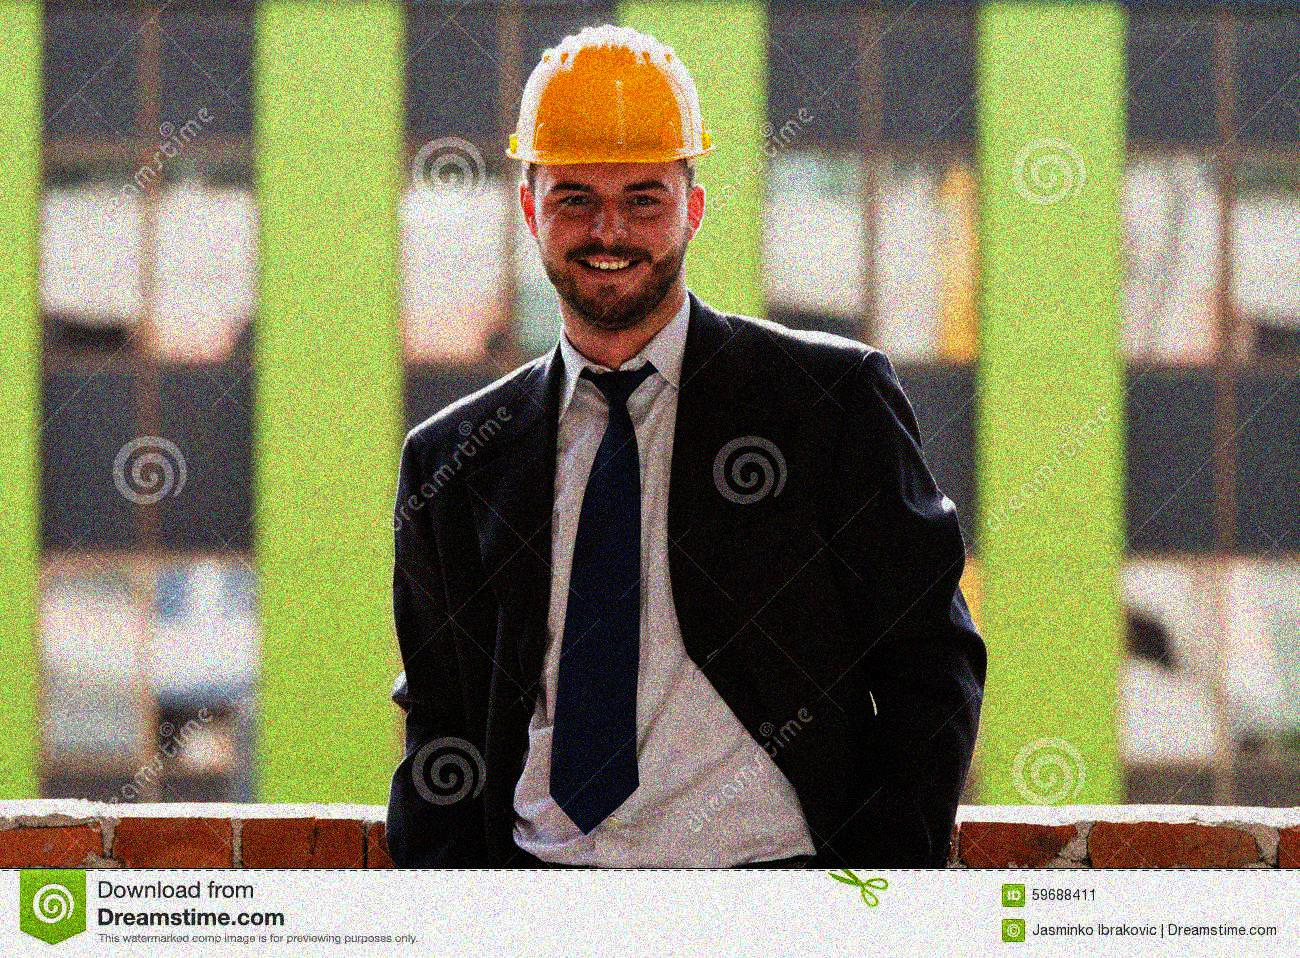helmet: (506, 24, 715, 322)
